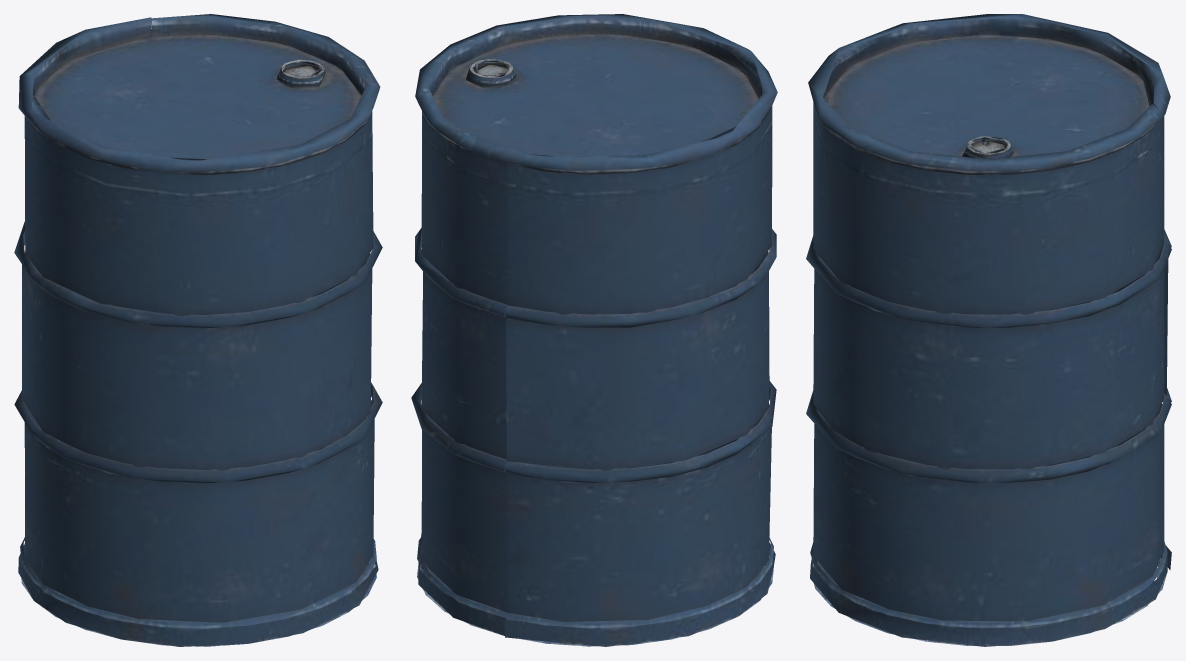
Rendered from barrel_03_1k.gltf.
3 views of the same model, side by side, from view 1: azimuth 30°, elevation 25°; view 2: azimuth 150°, elevation 25°; view 3: azimuth 270°, elevation 25° (orthographic).
Parts seen in each view (by area): view 1: barrel_03_LOD0; view 2: barrel_03_LOD0; view 3: barrel_03_LOD0.
Boxes of the visible parts, <box> form: barrel_03_LOD0: <box>14,14,382,646</box>; barrel_03_LOD0: <box>411,14,777,646</box>; barrel_03_LOD0: <box>806,14,1171,646</box>.
Size of what is drawn, in the model's own units: 0.6387 by 0.9325 by 0.6383.
Materials: 1 (1 with a texture image).
